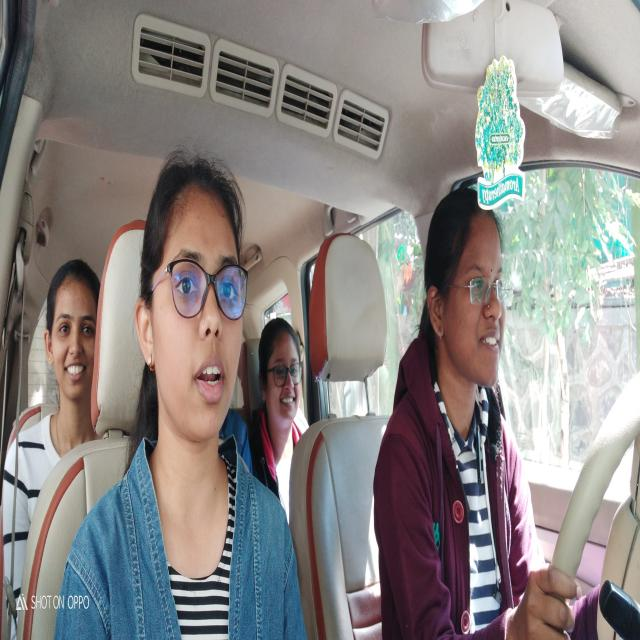person: (149, 171, 248, 438), (427, 196, 507, 391), (45, 271, 94, 392), (261, 314, 302, 426)
